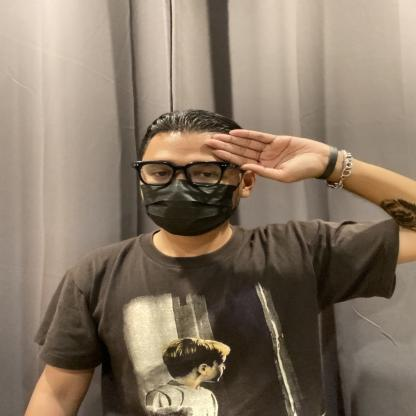Sick: (103, 113, 390, 202)
